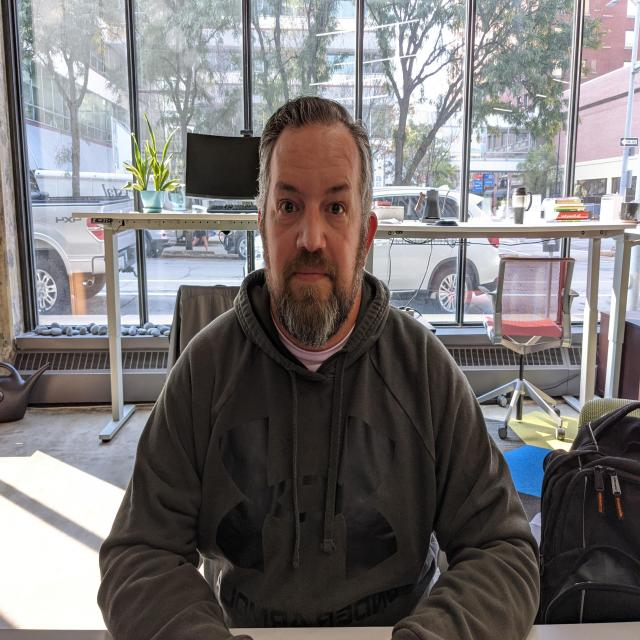face: (262, 141, 370, 352)
